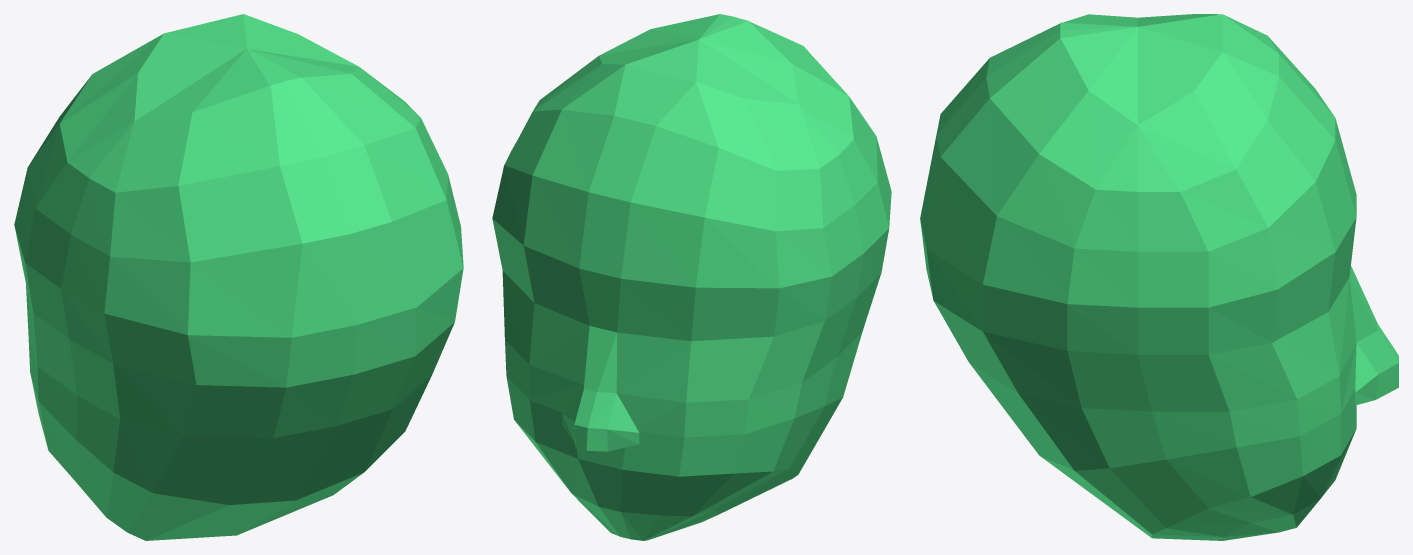
File: head.FBX
3 views of the same model, side by side, from view 1: azimuth 30°, elevation 25°; view 2: azimuth 150°, elevation 25°; view 3: azimuth 270°, elevation 25° (orthographic). The views are drawn at different scales.
Parts seen in each view (by area): view 1: VIFS001; view 2: VIFS001; view 3: VIFS001.
Part boxes in pixels (x1,y1,x2,y2): VIFS001: [14, 14, 463, 540]; VIFS001: [492, 14, 891, 540]; VIFS001: [920, 14, 1398, 540].
Size of the model in its own units: 0.598 by 0.783 by 0.679.
